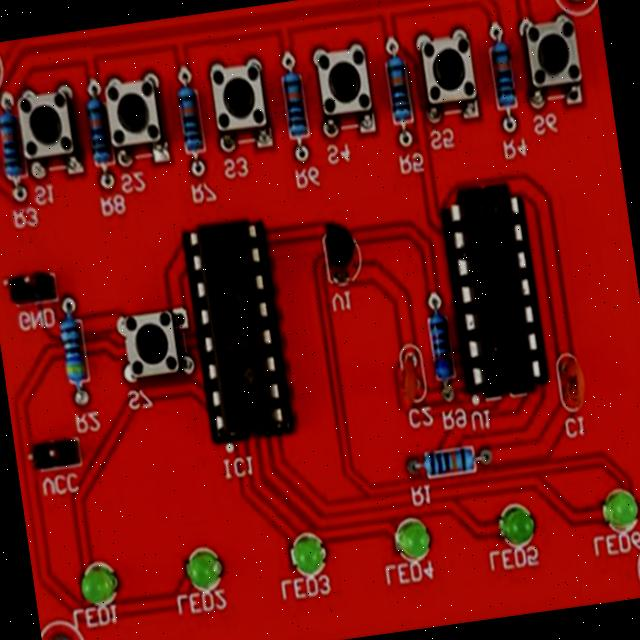IC: (183, 215, 298, 449), (440, 178, 550, 402)
led: (492, 494, 540, 558), (74, 556, 124, 617), (178, 538, 226, 598), (599, 480, 640, 547), (393, 514, 433, 574), (286, 529, 330, 581)
resistor: (381, 45, 422, 144), (80, 83, 117, 171), (278, 60, 312, 154), (171, 76, 208, 160), (414, 439, 478, 483), (54, 306, 87, 391), (489, 34, 520, 124), (428, 298, 456, 384), (0, 100, 27, 188)
switch: (205, 52, 279, 158), (100, 68, 174, 172), (306, 38, 379, 138), (14, 86, 84, 181), (524, 6, 592, 102), (416, 28, 483, 124), (120, 299, 187, 385)
transistor: (316, 214, 364, 296)
